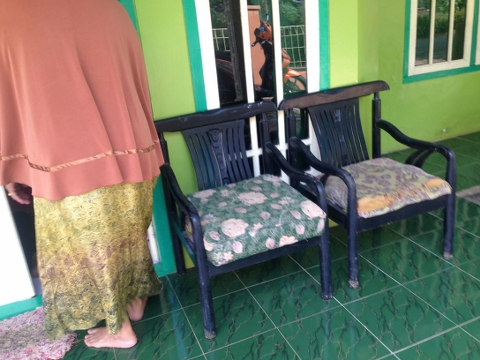kursi: (153, 100, 333, 338), (278, 80, 456, 289)
